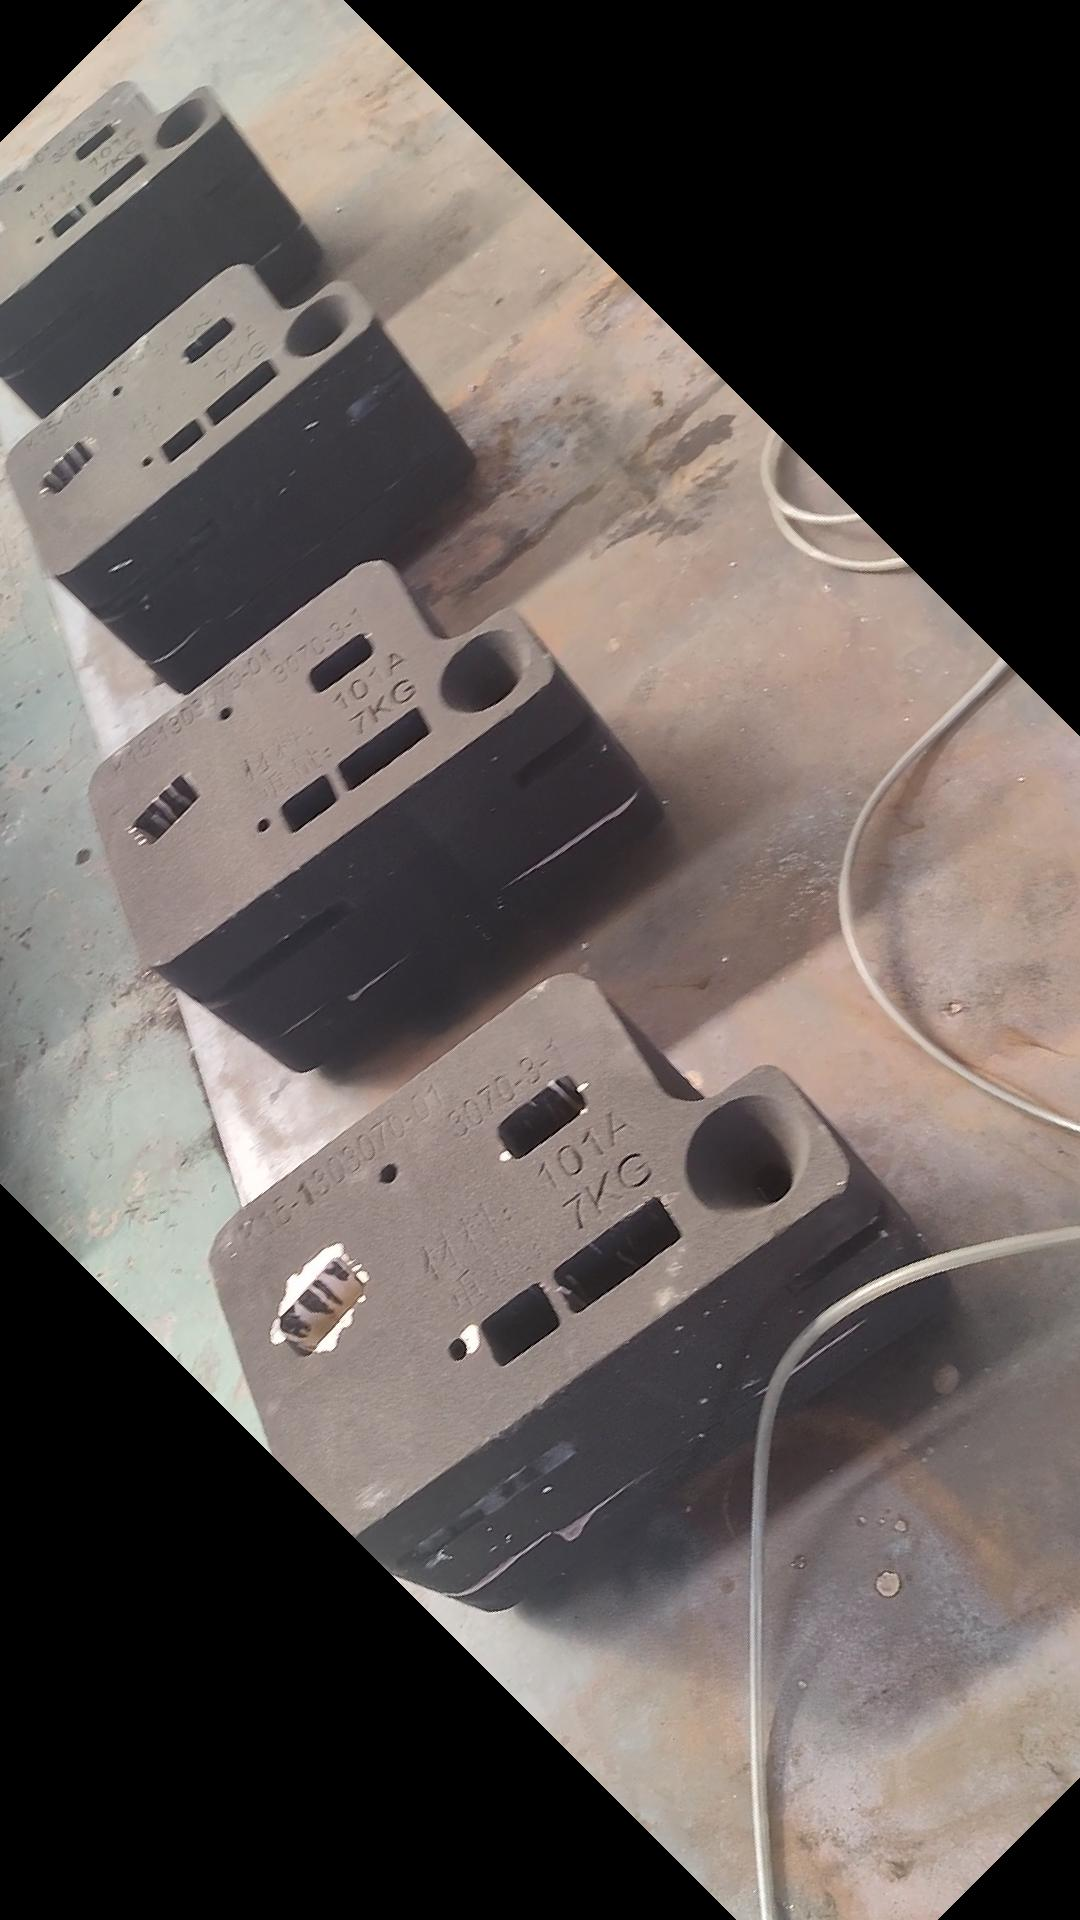pouring hole: (682, 1092, 814, 1221), (438, 626, 530, 713), (285, 291, 352, 357), (154, 98, 208, 150)
